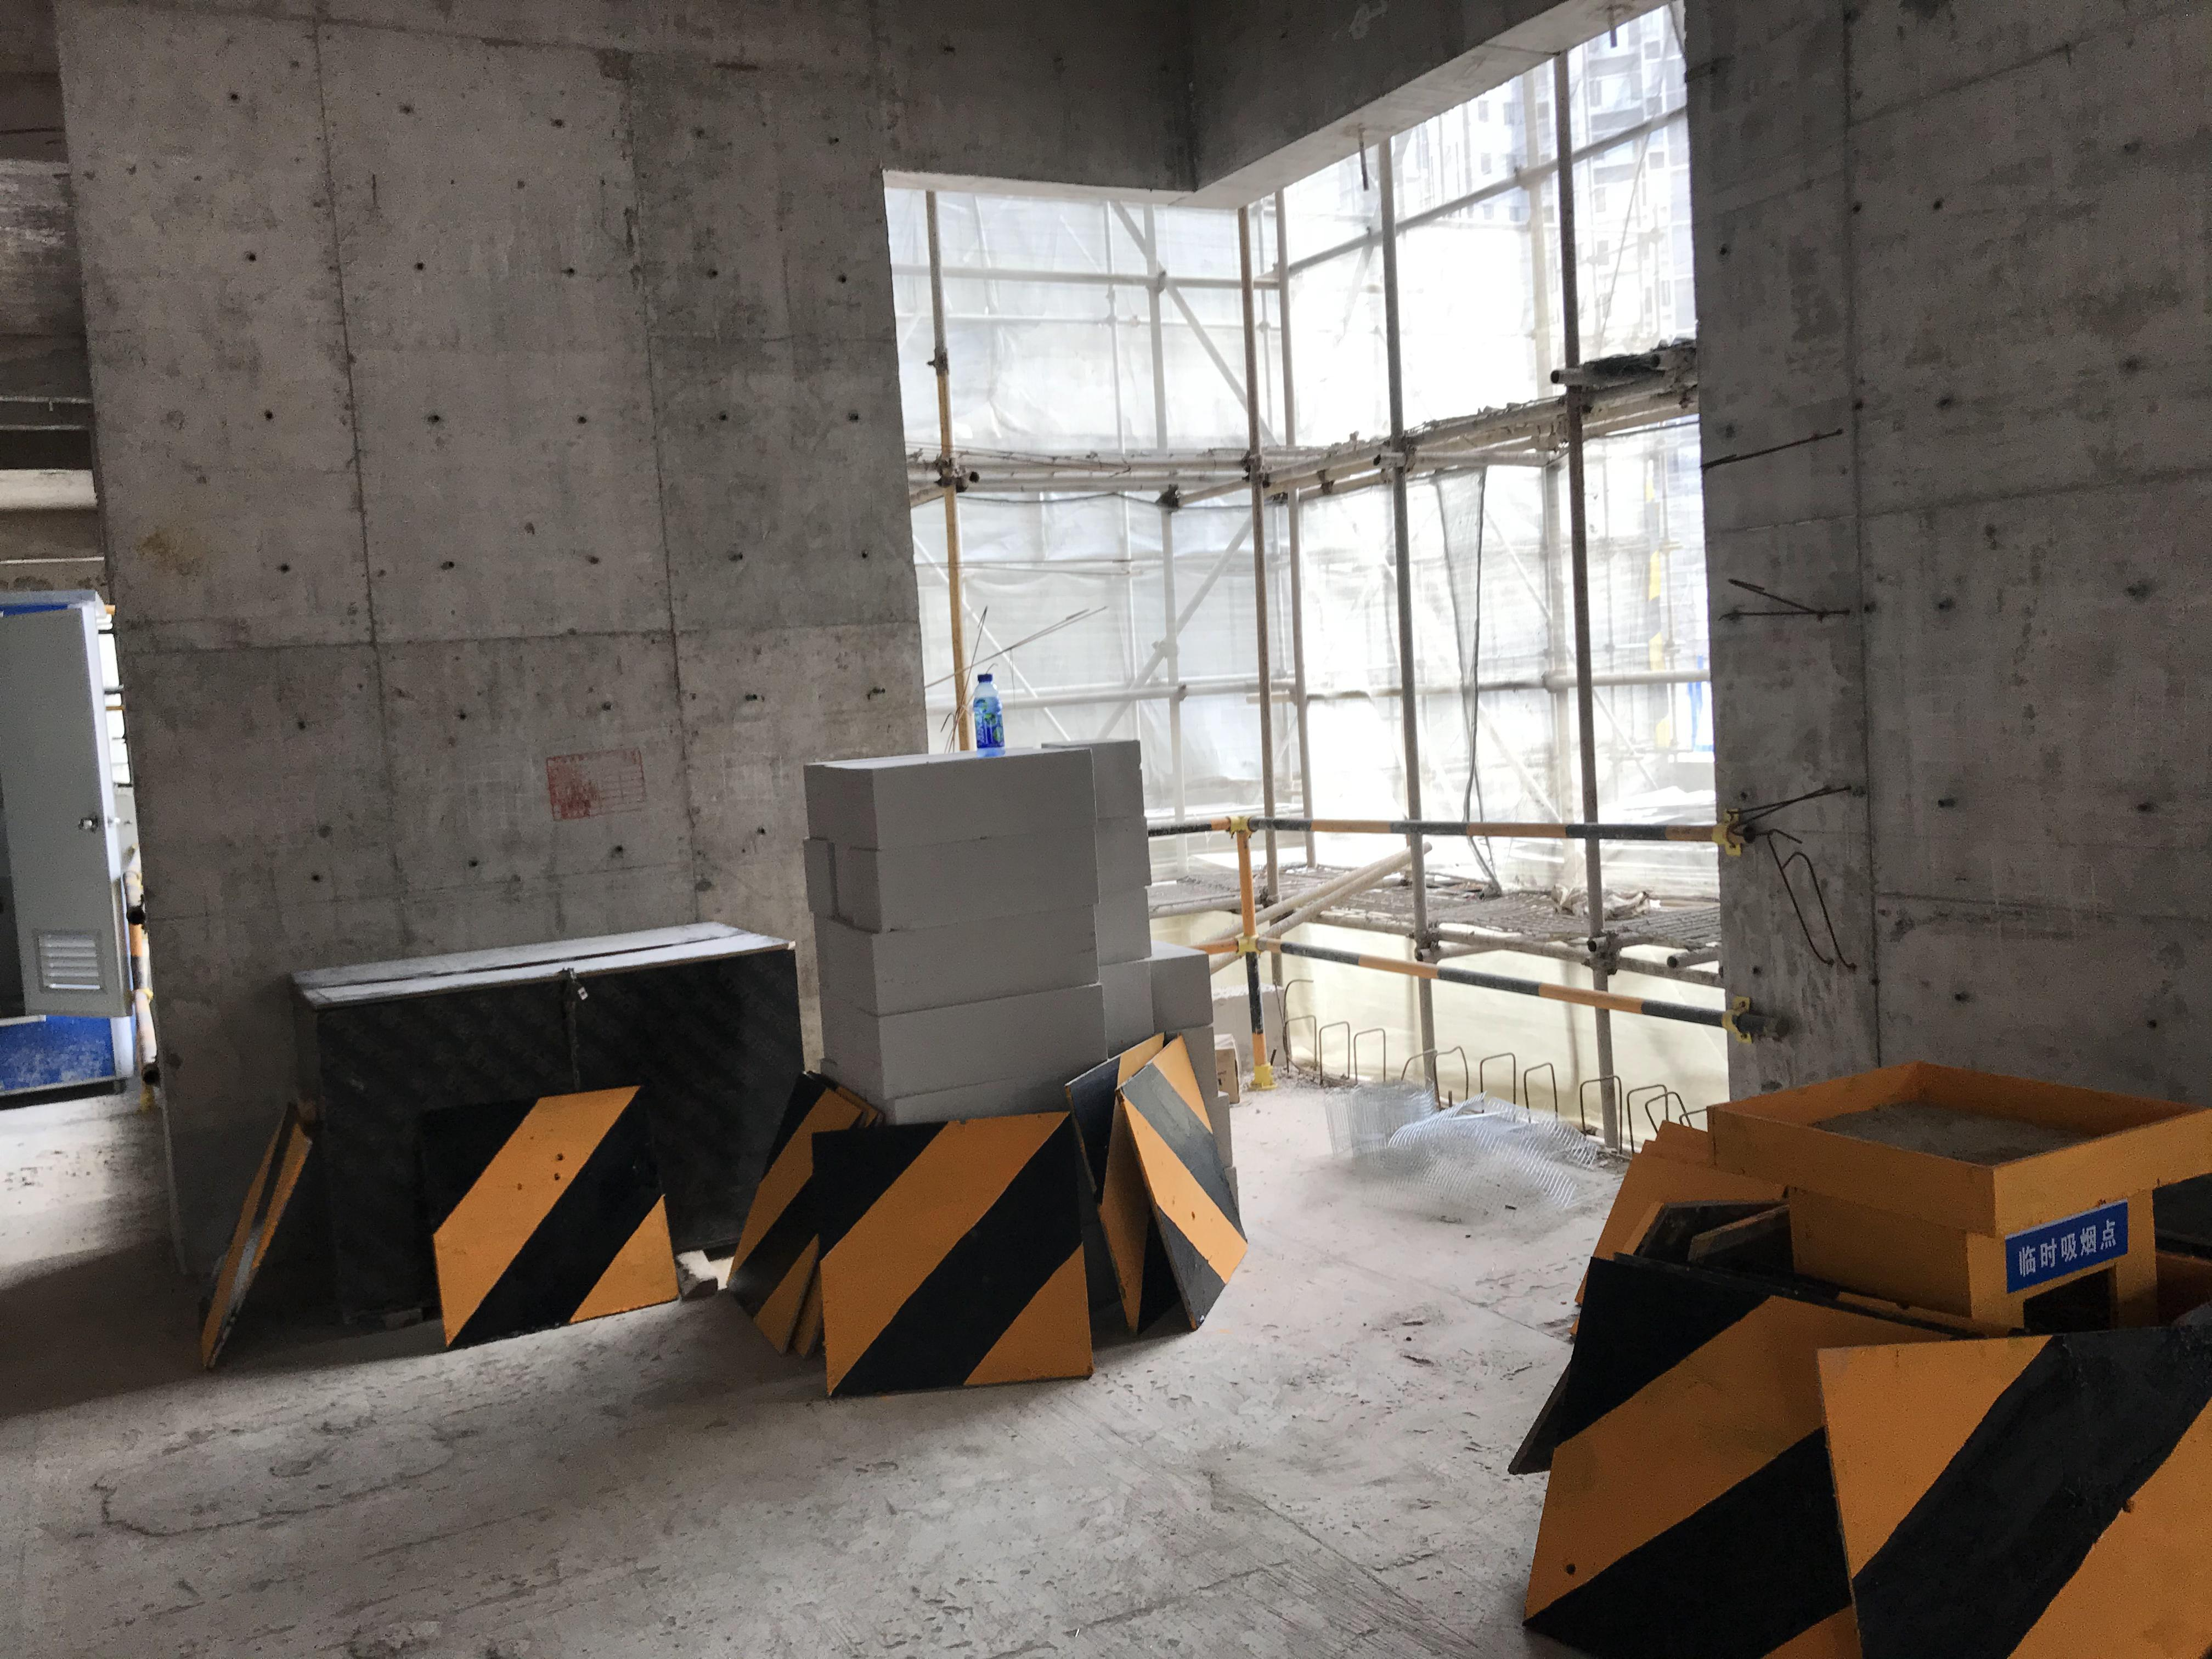brick: (803, 741, 1151, 1119)
